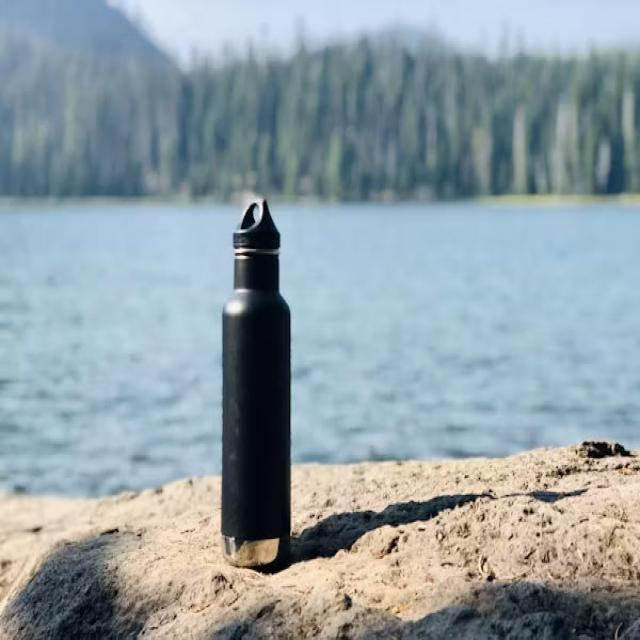Bottle: (221, 201, 290, 568)
